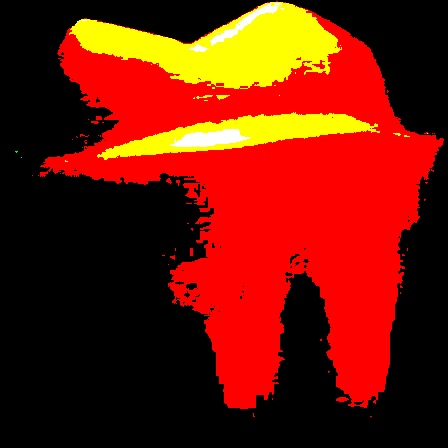coin_1: (40, 133, 60, 153)
coin_2: (47, 60, 67, 80)
coin_3: (409, 122, 429, 142)
coin_4: (375, 53, 395, 73)
